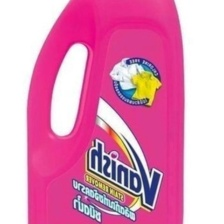cleaning_solution: (24, 0, 189, 224)
